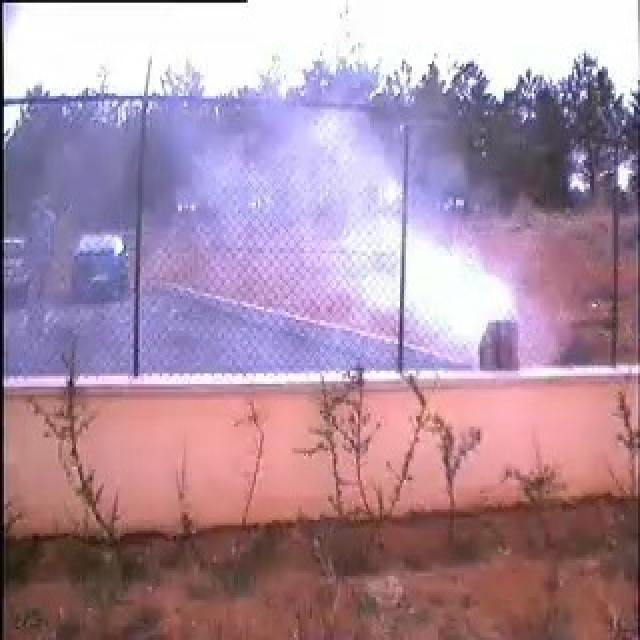Smoke: (56, 106, 532, 370)
